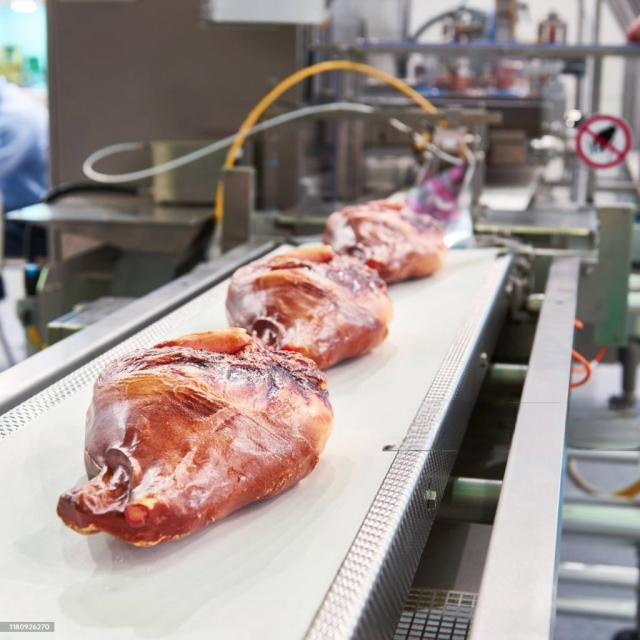food: (53, 326, 334, 558), (224, 240, 394, 388)
